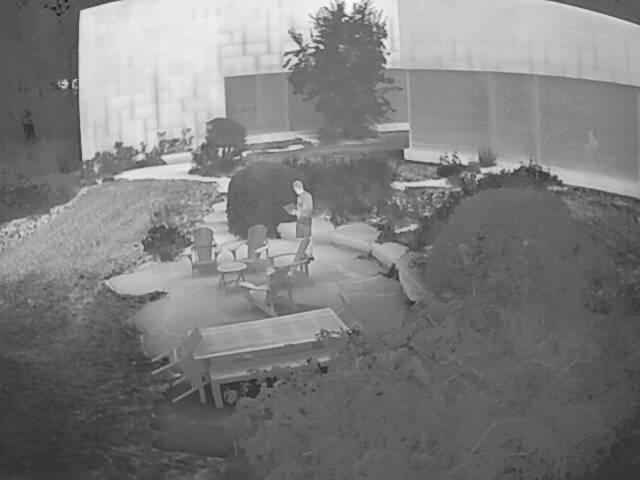person: (292, 180, 315, 266)
